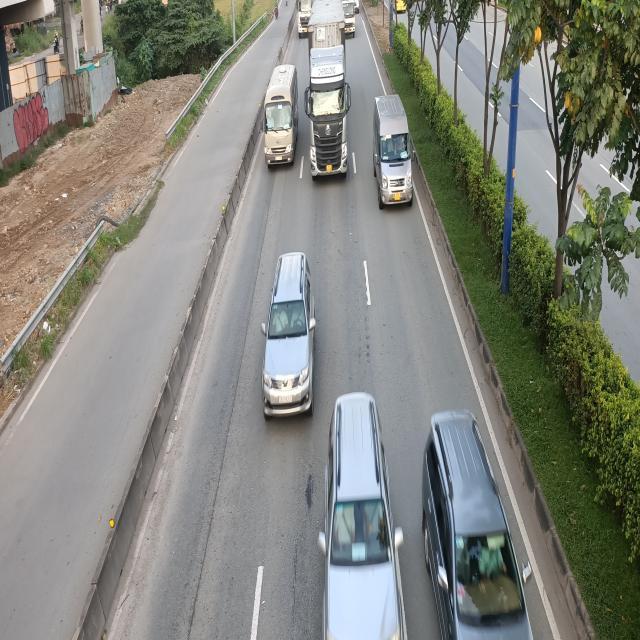car: (420, 409, 533, 640), (317, 388, 404, 636), (261, 254, 317, 421)
coach: (263, 62, 301, 166)
container: (306, 9, 352, 178)
van: (371, 94, 413, 210)
